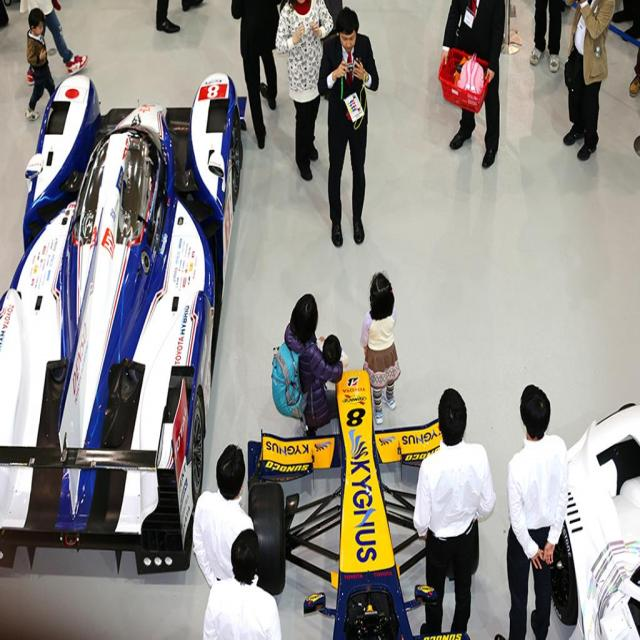nomask: (340, 33, 356, 51), (121, 376, 130, 396), (34, 23, 41, 34)
